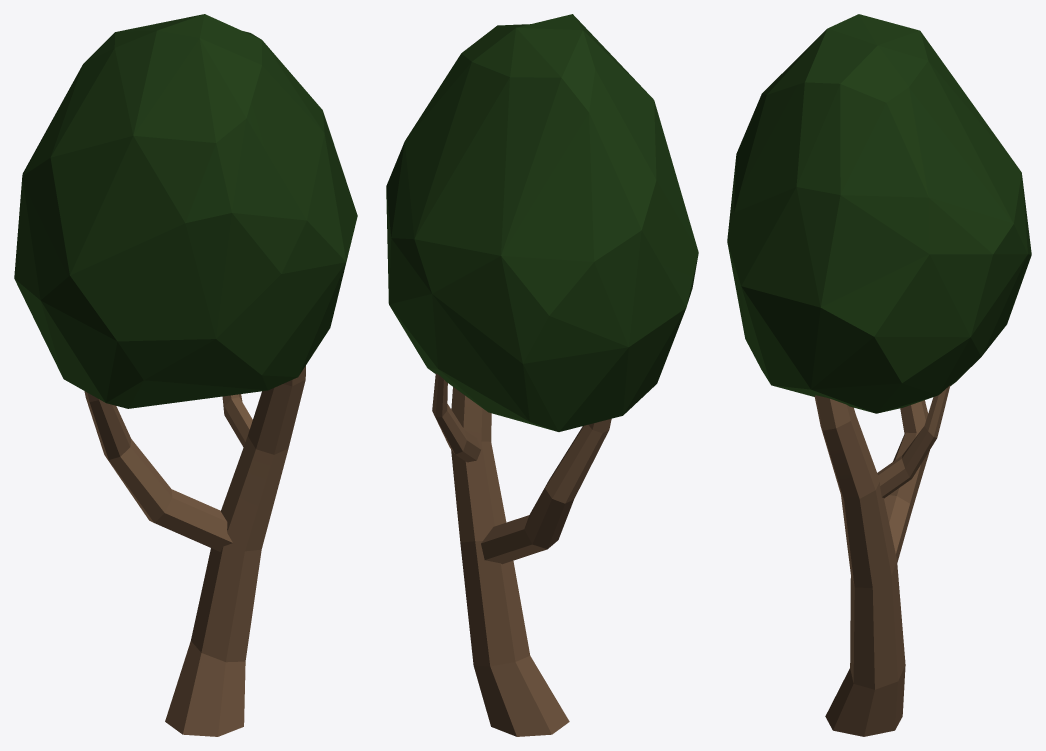
File: Tree9.glb
3 views of the same model, side by side, from view 1: azimuth 30°, elevation 25°; view 2: azimuth 150°, elevation 25°; view 3: azimuth 270°, elevation 25° (orthographic). The views are drawn at different scales.
Parts seen in each view (by area): view 1: Tree_15; view 2: Tree_15; view 3: Tree_15.
Boxes of the visible parts, bbox=[...] form: Tree_15: bbox=[14, 14, 357, 736]; Tree_15: bbox=[386, 14, 698, 736]; Tree_15: bbox=[727, 14, 1031, 736].
Bounding box in the file's own units: 1.68 × 3.82 × 1.55.
1 material, 1 textured.
